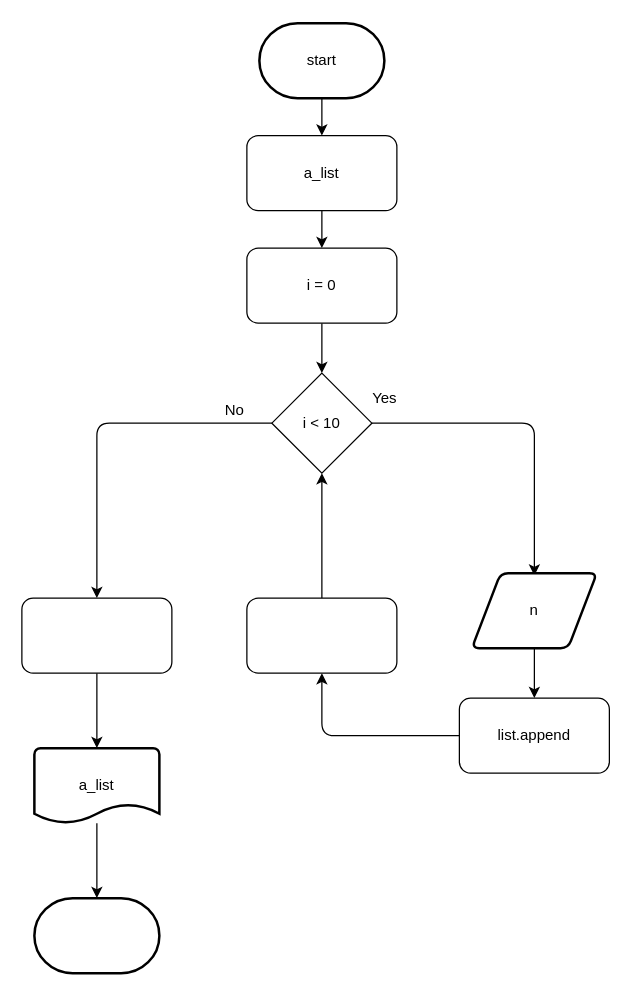
Some shapes in this 631 by 995 pixel diagram are drawn without their labels. The box of each missing label's shape, as (x1, y1, x2, y2) in pixels:
finish: (32, 896, 160, 974)
i += 1: (246, 597, 397, 673)
set( a_list ( ) ): (21, 597, 172, 673)
